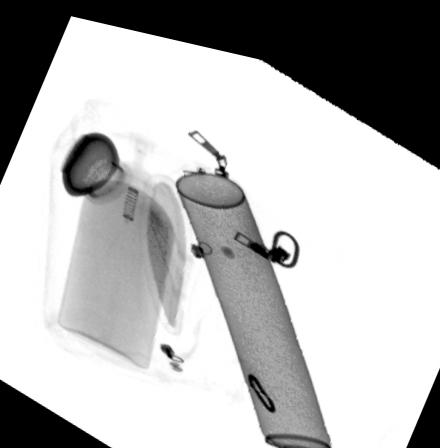Sprayer: (172, 160, 339, 448)
